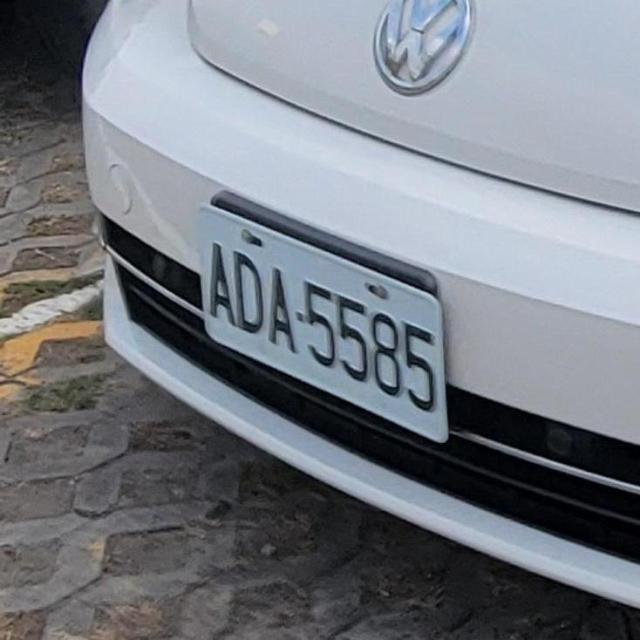W: (175, 175, 469, 455)
